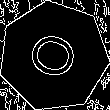O_E: (22, 28, 85, 85)
